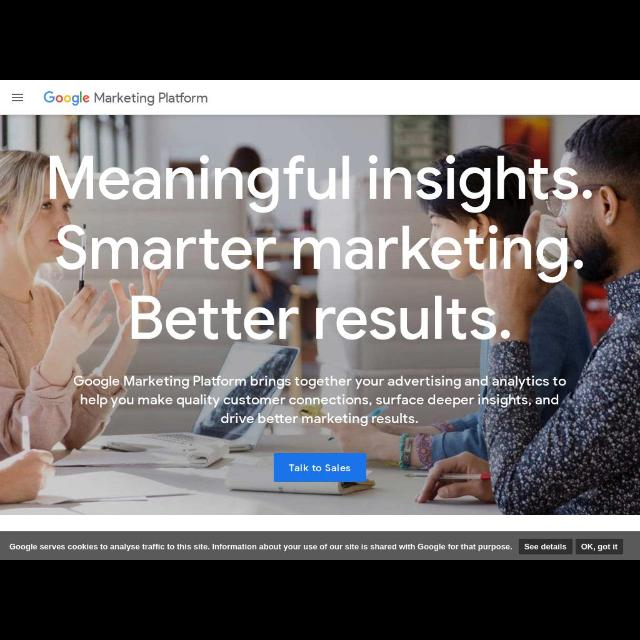backgroundimage: (1, 116, 639, 514)
icon: (11, 91, 25, 105)
image: (42, 90, 90, 106)
text: (52, 156, 594, 338), (73, 374, 567, 426), (9, 542, 513, 554), (93, 92, 209, 106), (288, 463, 350, 473), (525, 542, 567, 550), (580, 544, 618, 550)
textbutton: (274, 452, 366, 482), (576, 538, 622, 554), (520, 539, 572, 553)
toolbar: (1, 80, 639, 116)
